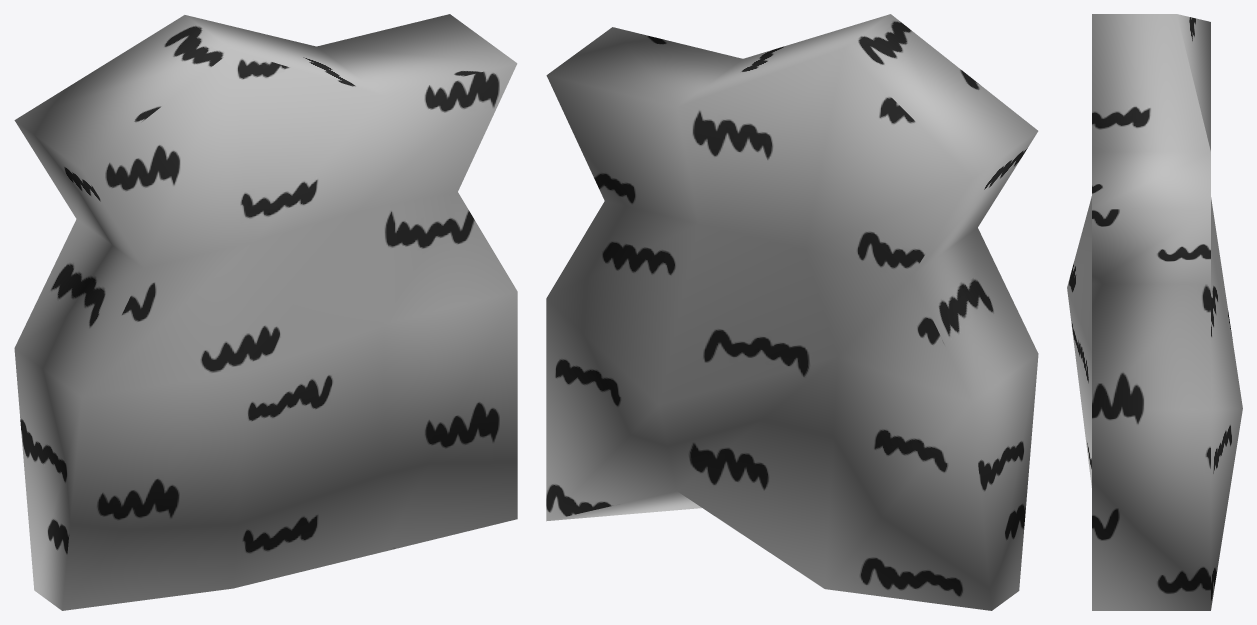
Rendered from item-bark-chip-birch.glb.
3 renders of one model, left to right at view 1: azimuth 30°, elevation 25°; view 2: azimuth 150°, elevation 25°; view 3: azimuth 270°, elevation 25°, orthographic. The views are drawn at different scales.
Size of the model in its own units: 2 by 2.36 by 0.7938.
Materials: 1 (1 with a texture image).
